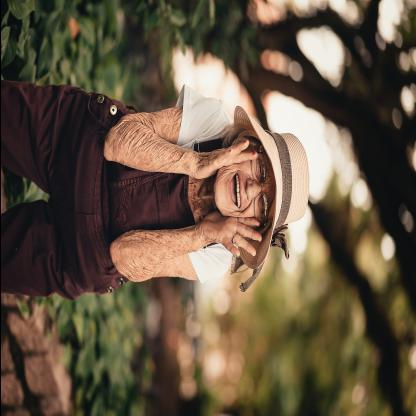Eye: (255, 158, 262, 181), (258, 195, 264, 213)
Mouth: (227, 172, 241, 209)
Nose: (245, 179, 260, 202)
